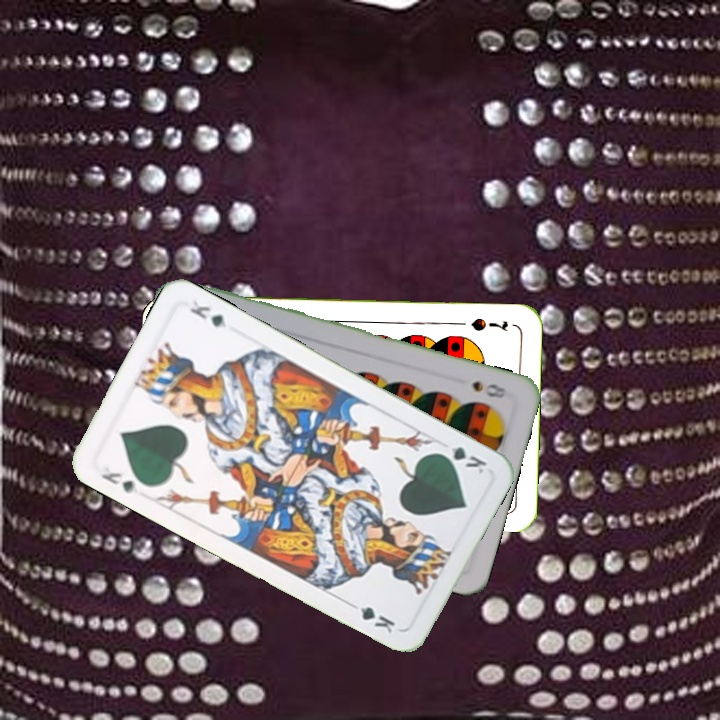GK: (433, 441, 490, 477), (97, 468, 141, 497)
S7: (467, 313, 510, 334)
S8: (468, 377, 511, 401)
